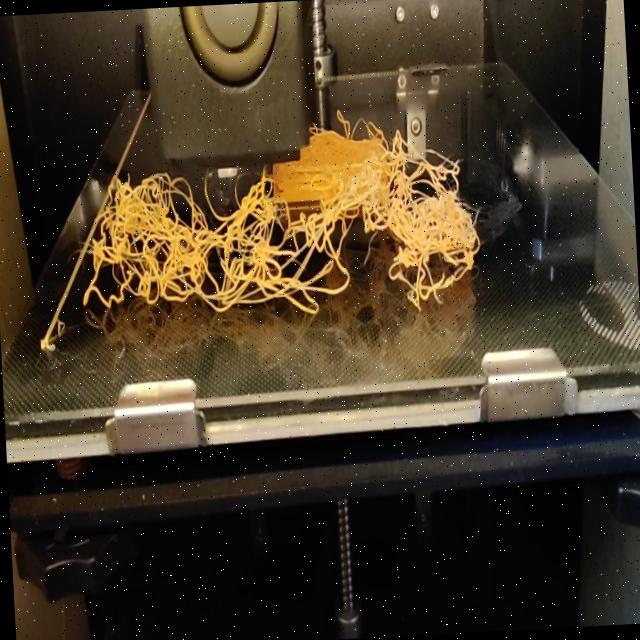spaghetti: (72, 144, 490, 338), (308, 109, 409, 154)
